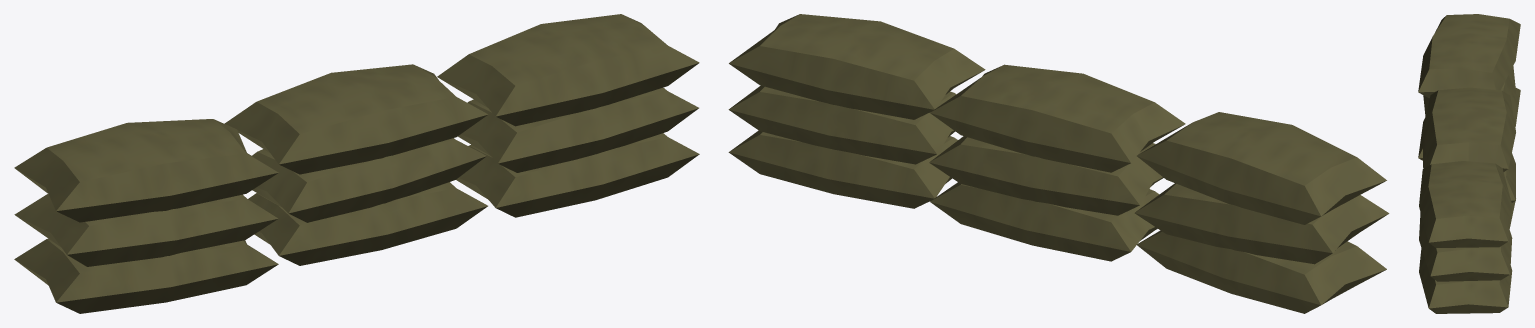
File: BagsNine.fbx
3 renders of one model, left to right at view 1: azimuth 30°, elevation 25°; view 2: azimuth 150°, elevation 25°; view 3: azimuth 270°, elevation 25°, orthographic. The views are drawn at different scales.
Parts seen in each view (by area): view 1: Cube.041; view 2: Cube.041; view 3: Cube.041.
Part boxes in pixels (x1,y1,x2,y2): Cube.041: (14, 14, 699, 313); Cube.041: (728, 14, 1389, 313); Cube.041: (1418, 14, 1520, 313).
Size of the model in its own units: 425 by 92.98 by 82.41.
